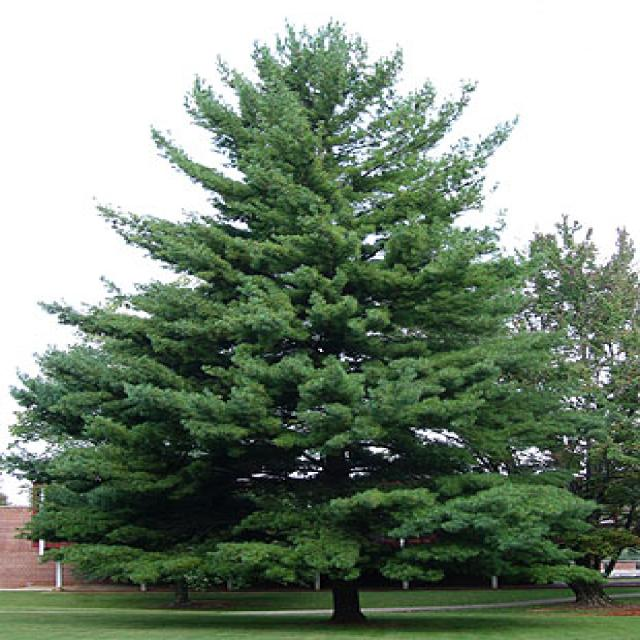pino: (11, 12, 621, 629)
